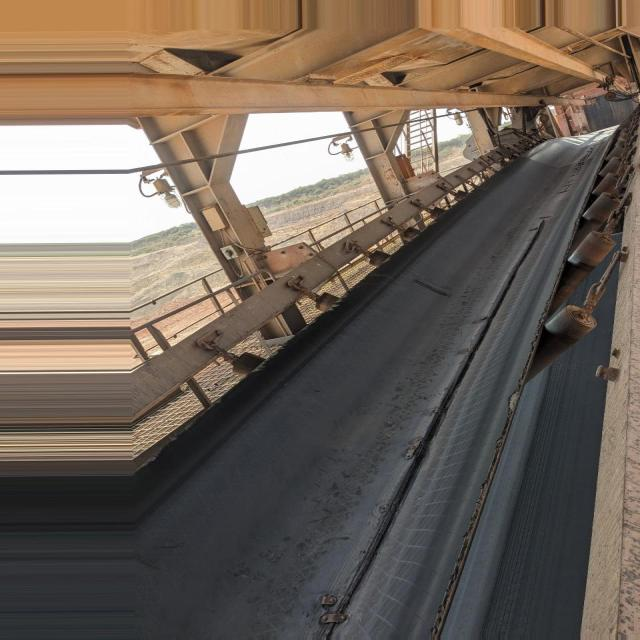Roller: (524, 302, 596, 385), (553, 227, 618, 313)
Tear: (329, 207, 551, 628)
